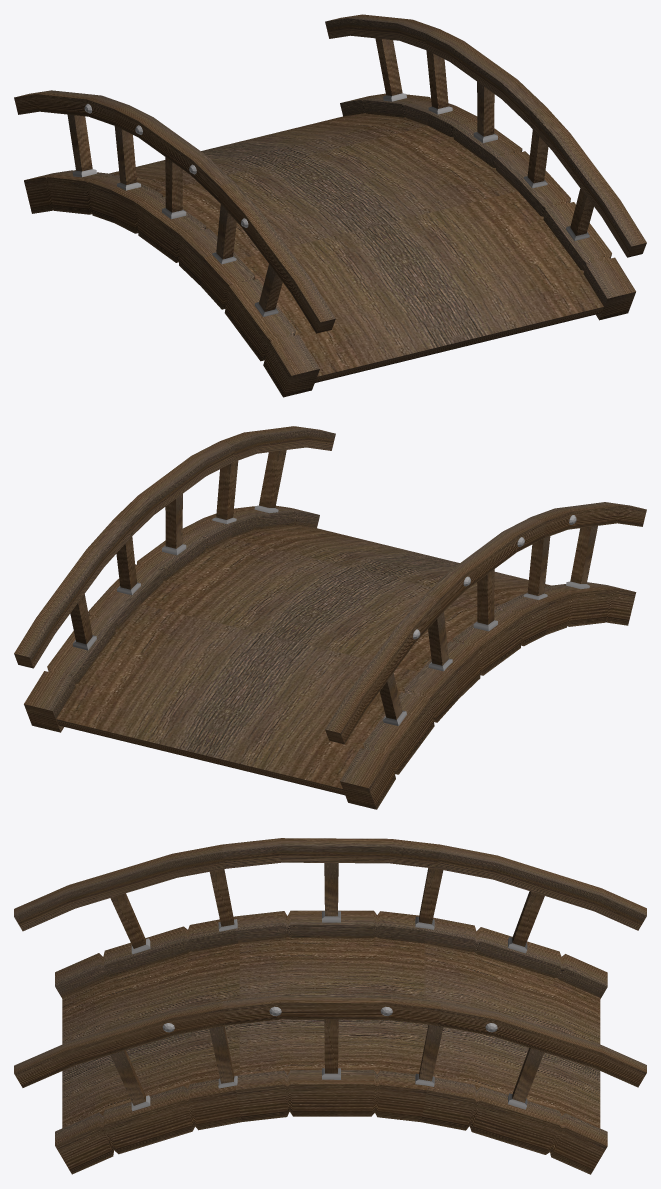
The model's file is bridge.fbx.
3 views of the same model, one above another, from view 1: azimuth 30°, elevation 25°; view 2: azimuth 150°, elevation 25°; view 3: azimuth 270°, elevation 25° (orthographic). The views are drawn at different scales.
Parts seen in each view (by area): view 1: polySurface33; view 2: polySurface33; view 3: polySurface33.
Part boxes in pixels (x1,y1,x2,y2): polySurface33: [14, 14, 646, 397]; polySurface33: [14, 426, 646, 809]; polySurface33: [14, 838, 646, 1174].
Bounding box in the file's own units: 9.15 × 4.11 × 14.08.
2 materials, 1 textured.
